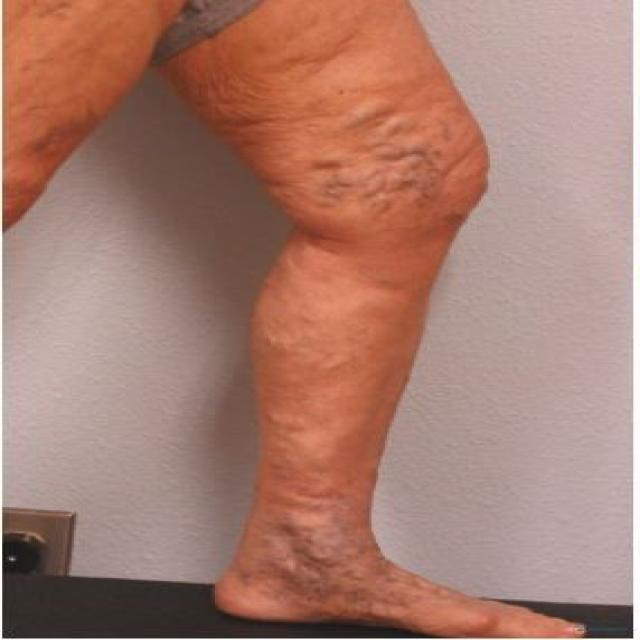Varicose: (226, 97, 547, 604)
